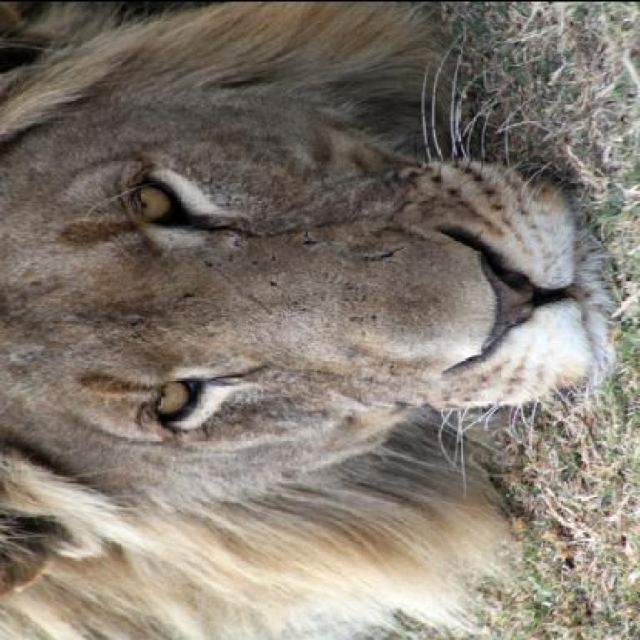Lion: (6, 8, 639, 580)
